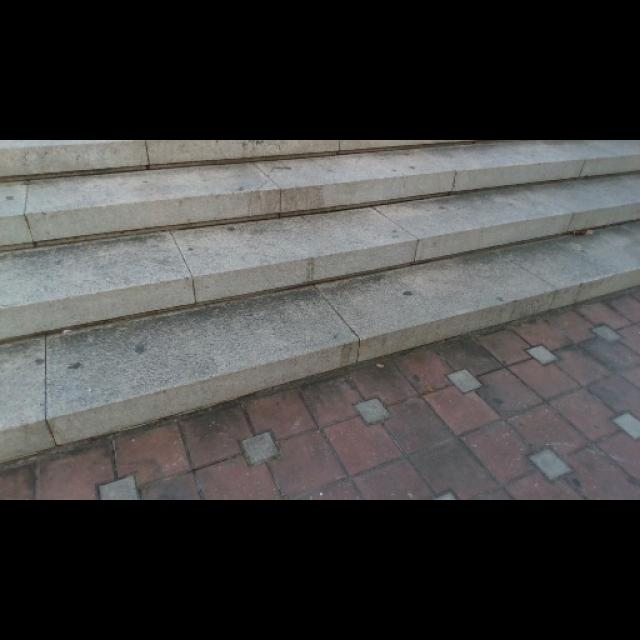Stairs: (0, 138, 639, 462)
